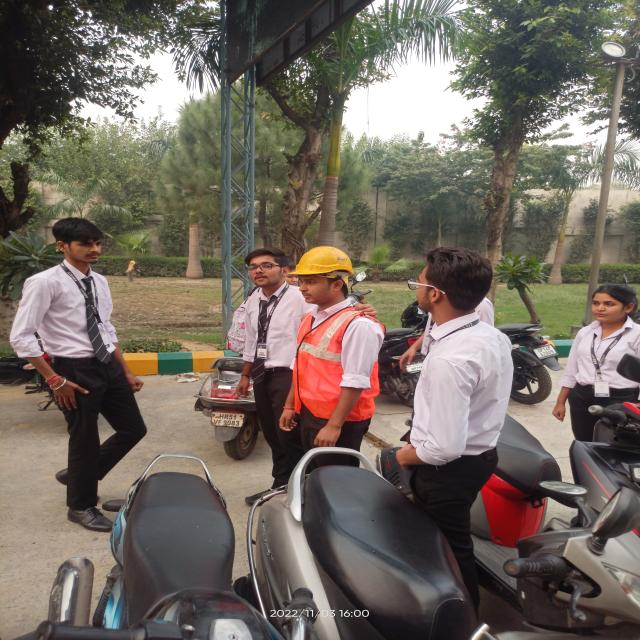safe: (281, 246, 385, 456)
unsafe: (407, 248, 510, 537), (32, 215, 123, 528), (565, 284, 640, 443)
